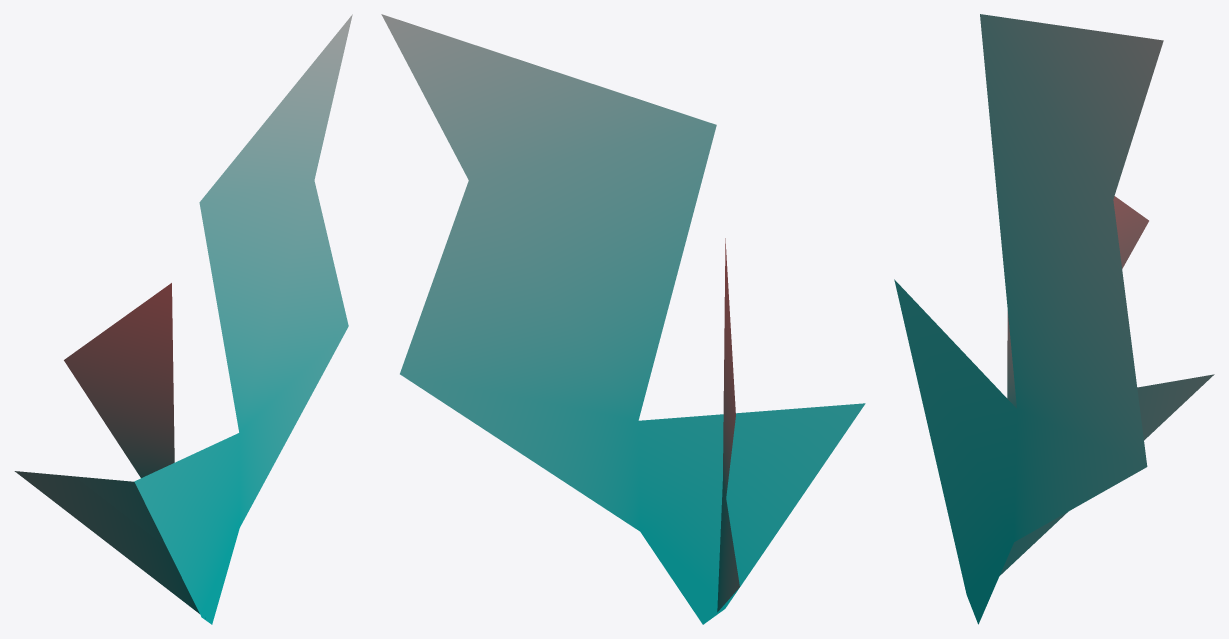
The model's file is Curbside_Weeds_ujzjfexja_Mid_ujzjfexja_VarC_LOD1.fbx.
The picture shows the model from 3 angles, left to right: view 1: azimuth 30°, elevation 25°; view 2: azimuth 150°, elevation 25°; view 3: azimuth 270°, elevation 25°; orthographic projection. The views are drawn at different scales.
Visible parts, largest first — view 1: _vug4_VarC_LOD2; view 2: _vug4_VarC_LOD2; view 3: _vug4_VarC_LOD2.
Part boxes in pixels (x1=…): _vug4_VarC_LOD2: x1=14, y1=14, x2=352, y2=624; _vug4_VarC_LOD2: x1=381, y1=14, x2=865, y2=624; _vug4_VarC_LOD2: x1=894, y1=14, x2=1214, y2=624.
Bounding box in the file's own units: 8.24 × 12.59 × 5.03.
